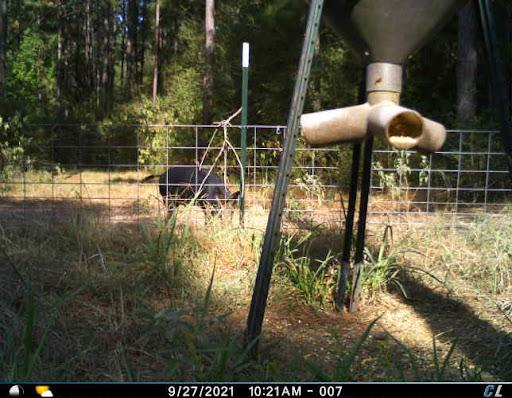Hog: (142, 163, 242, 209)
